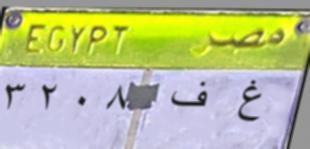0: (72, 87, 95, 119)
2: (37, 80, 62, 115)
3: (3, 77, 29, 116)
8: (103, 80, 129, 118)
faa: (170, 77, 211, 115)
ghayn: (235, 72, 265, 130)
